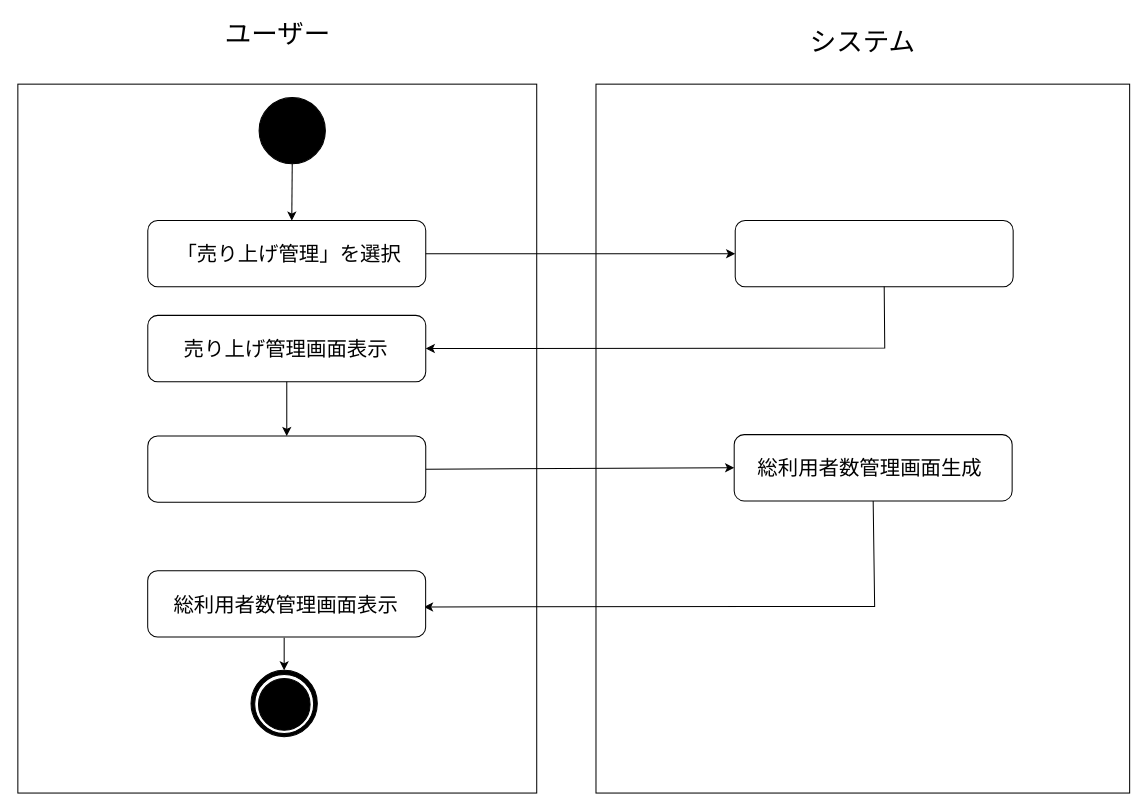
Some shapes in this 1148 by 811 pixel diagram are drawn without their labels. The shapes that lost their labels are listed below. From the top down, each one's centre as x and y in pixels, then its label:
At [873,253]: "売り上げ管理画面生成".
At [286,468]: "「総利用者数」を選択".
